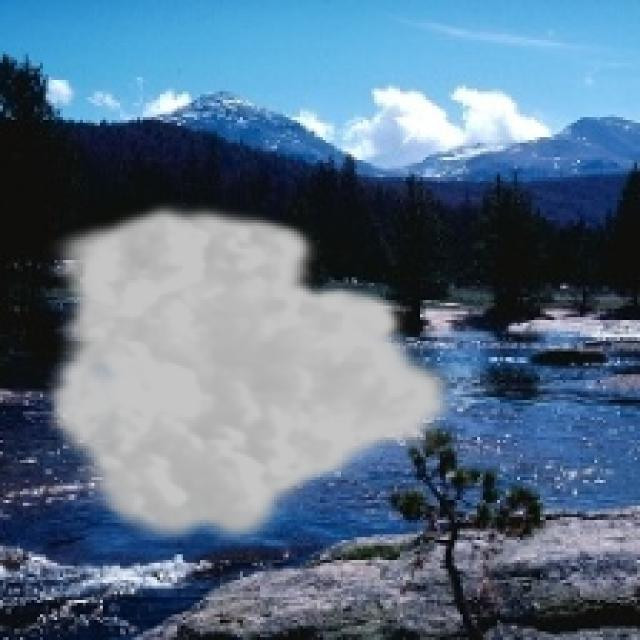Smoke: (43, 199, 463, 552)
